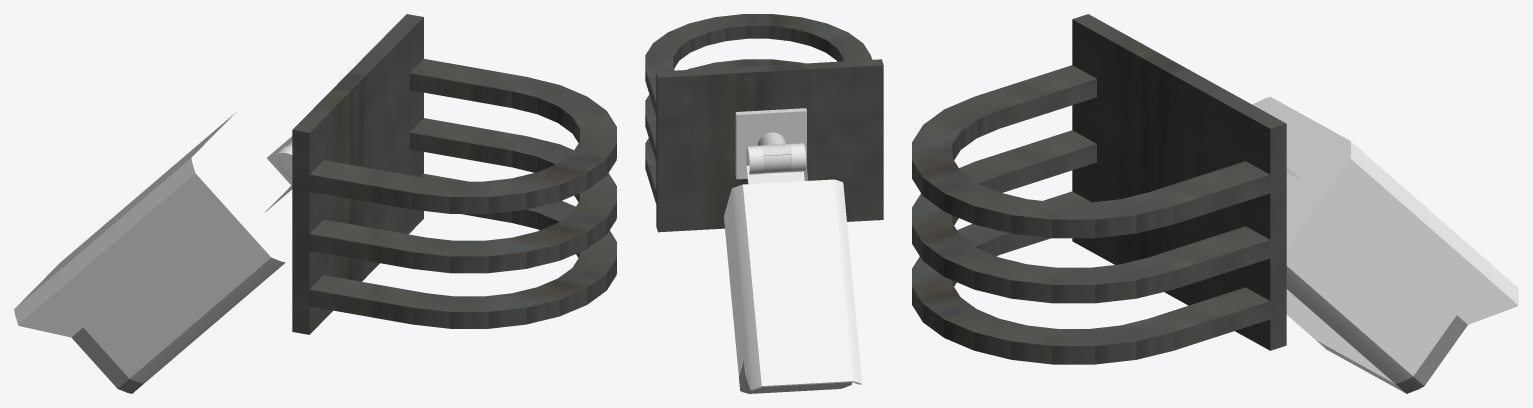
The model's file is camera-ip-baixo.glb.
3 views of the same model, side by side, from view 1: azimuth 30°, elevation 25°; view 2: azimuth 150°, elevation 25°; view 3: azimuth 270°, elevation 25° (orthographic). The views are drawn at different scales.
Visible parts, largest first — view 1: Componente_13_1, Componente_1_1, Al_a1, Al_a3, Al_a2, Componente_9_1, Componente_12_1; view 2: Componente_1_1, Componente_13_1, Al_a1, Componente_11_1, Componente_12_1, Al_a3, Componente_9_1, Al_a2; view 3: Componente_13_1, Componente_1_1, Al_a1, Al_a3, Al_a2, Componente_9_1.
Boxes of the visible parts, <box> form: Componente_13_1: <box>14,111,292,383</box>; Componente_1_1: <box>292,14,423,334</box>; Al_a1: <box>309,59,616,213</box>; Al_a3: <box>309,118,616,273</box>; Al_a2: <box>309,173,616,328</box>; Componente_9_1: <box>71,327,143,393</box>; Componente_12_1: <box>265,136,292,212</box>; Componente_1_1: <box>656,59,883,232</box>; Componente_13_1: <box>724,179,861,390</box>; Al_a1: <box>645,14,872,115</box>; Componente_11_1: <box>735,108,806,179</box>; Componente_12_1: <box>746,143,808,183</box>; Al_a3: <box>645,59,804,161</box>; Componente_9_1: <box>739,361,852,393</box>; Al_a2: <box>645,138,656,203</box>; Componente_13_1: <box>1252,96,1518,383</box>; Componente_1_1: <box>1072,14,1286,350</box>; Al_a1: <box>912,65,1270,238</box>; Al_a3: <box>912,130,1270,303</box>; Al_a2: <box>912,191,1270,364</box>; Componente_9_1: <box>1316,315,1467,393</box>.
Bounding box in the file's own units: 0.2619 × 0.1965 × 0.2974.
Materials: 8 (1 with a texture image).
